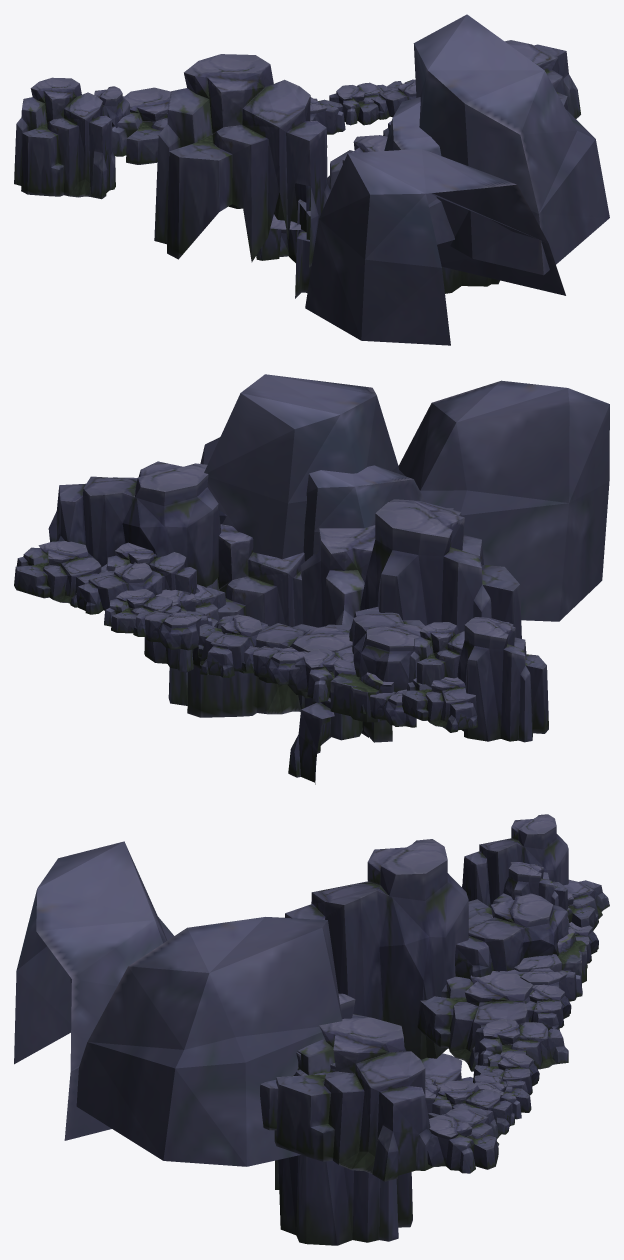
Rendered from Area05_14.fbx.
3 renders of one model, top to bottom at view 1: azimuth 30°, elevation 25°; view 2: azimuth 150°, elevation 25°; view 3: azimuth 270°, elevation 25°, orthographic. The views are drawn at different scales.
Parts seen in each view (by area): view 1: Area05_14; view 2: Area05_14; view 3: Area05_14.
Boxes of the visible parts, x1=… form: Area05_14: x1=14, y1=14, x2=609, y2=345; Area05_14: x1=14, y1=374, x2=609, y2=784; Area05_14: x1=14, y1=814, x2=609, y2=1245.
Size of the model in its own units: 7121 by 3593 by 6473.
